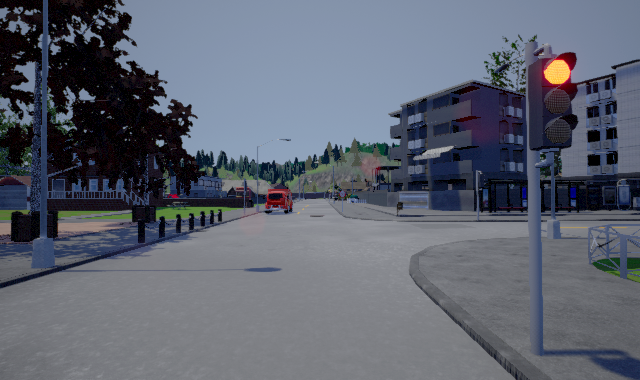traffic_light: (528, 43, 579, 168)
vehicle: (265, 189, 293, 214)
